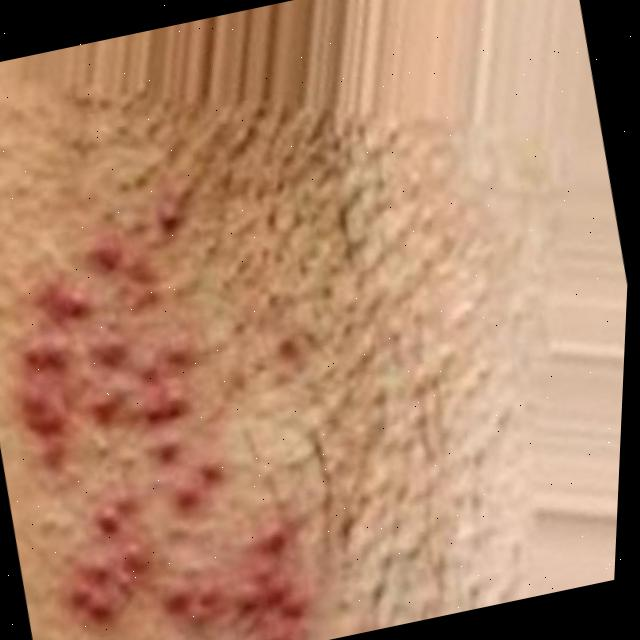Shingles: (0, 167, 345, 640)
